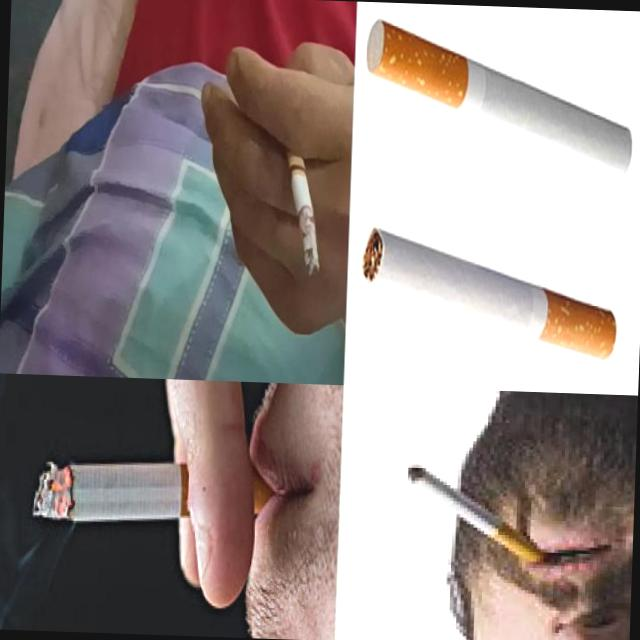cigarette: (361, 20, 635, 179), (358, 228, 620, 360), (30, 450, 290, 530), (402, 465, 550, 565), (276, 128, 326, 279)
